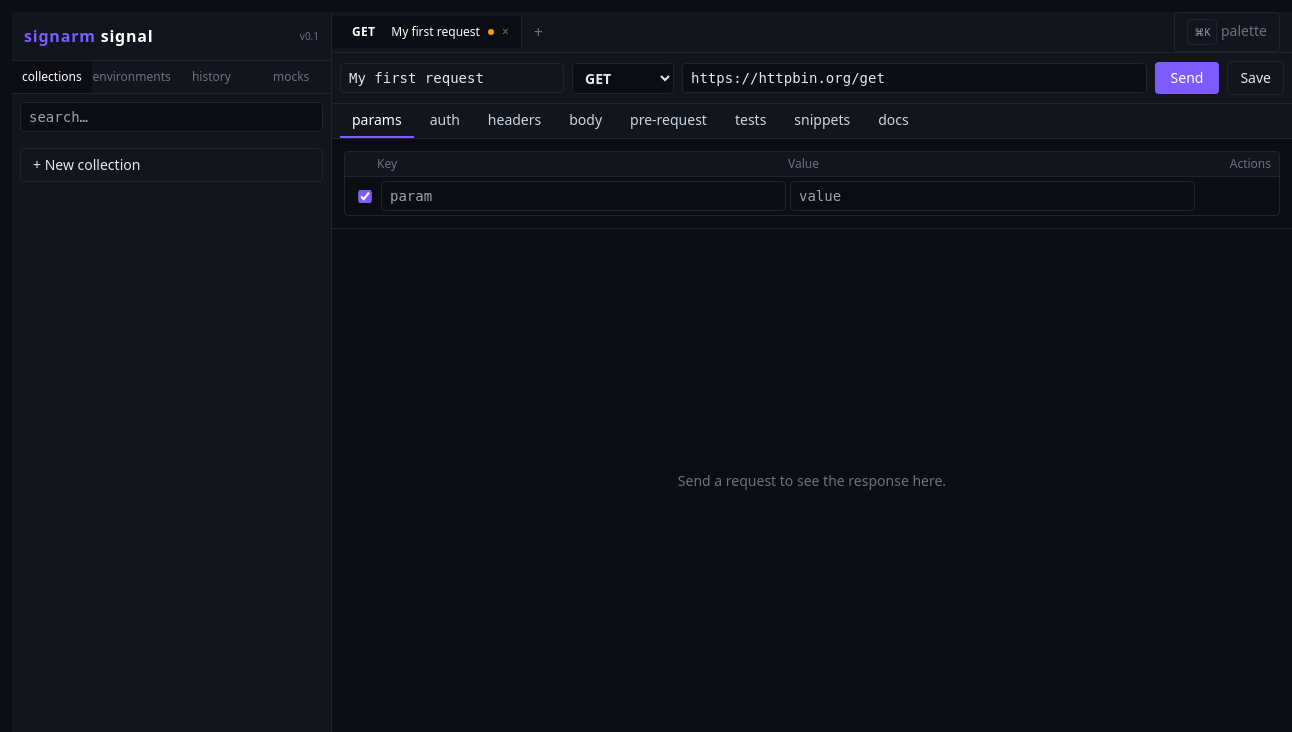
persistence — survives app restart › environments + activeEnvId survive remount
This screenshot has width=1292, height=732.
What coordinates should you click on to do the following:
click the button "environments"
I would click on:
 (132, 77)
Its box is [92,61,172,93].
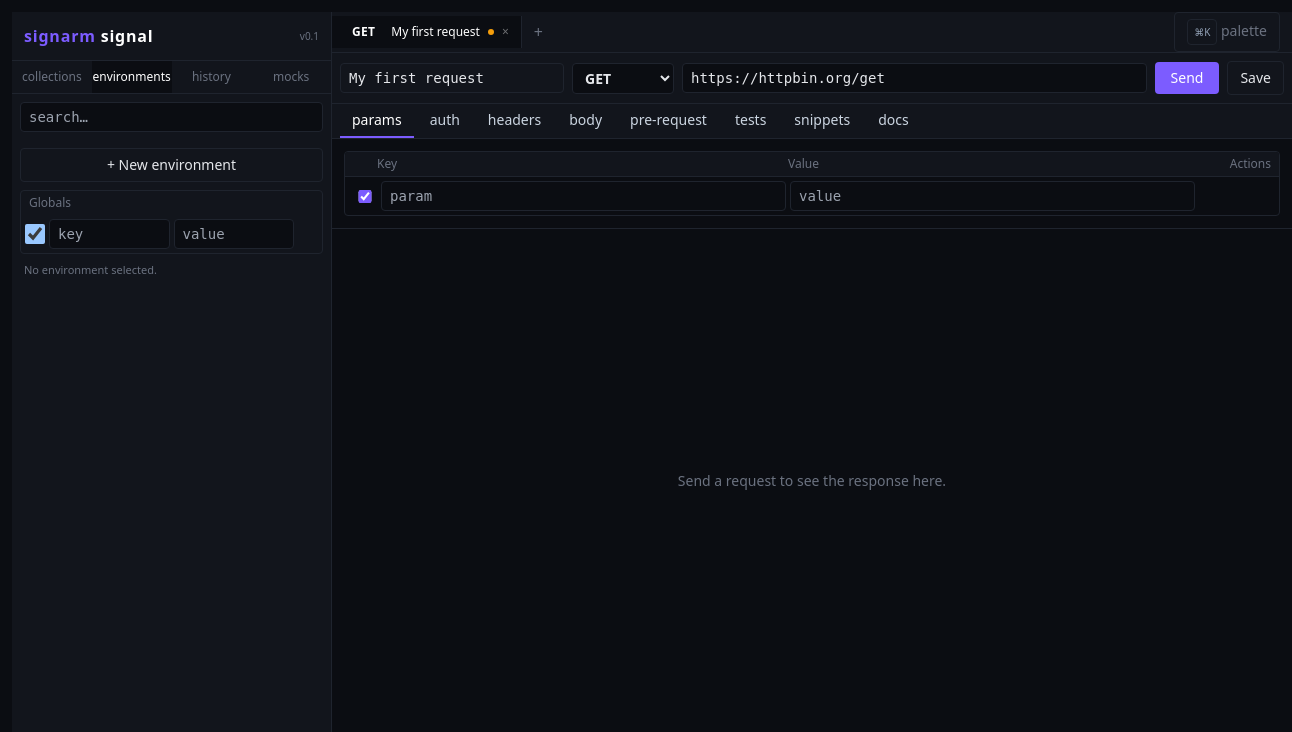
What coordinates should you click on to do the following:
click the button "+ New environment"
I would click on:
 (172, 165)
Its box is [20,148,323,182].
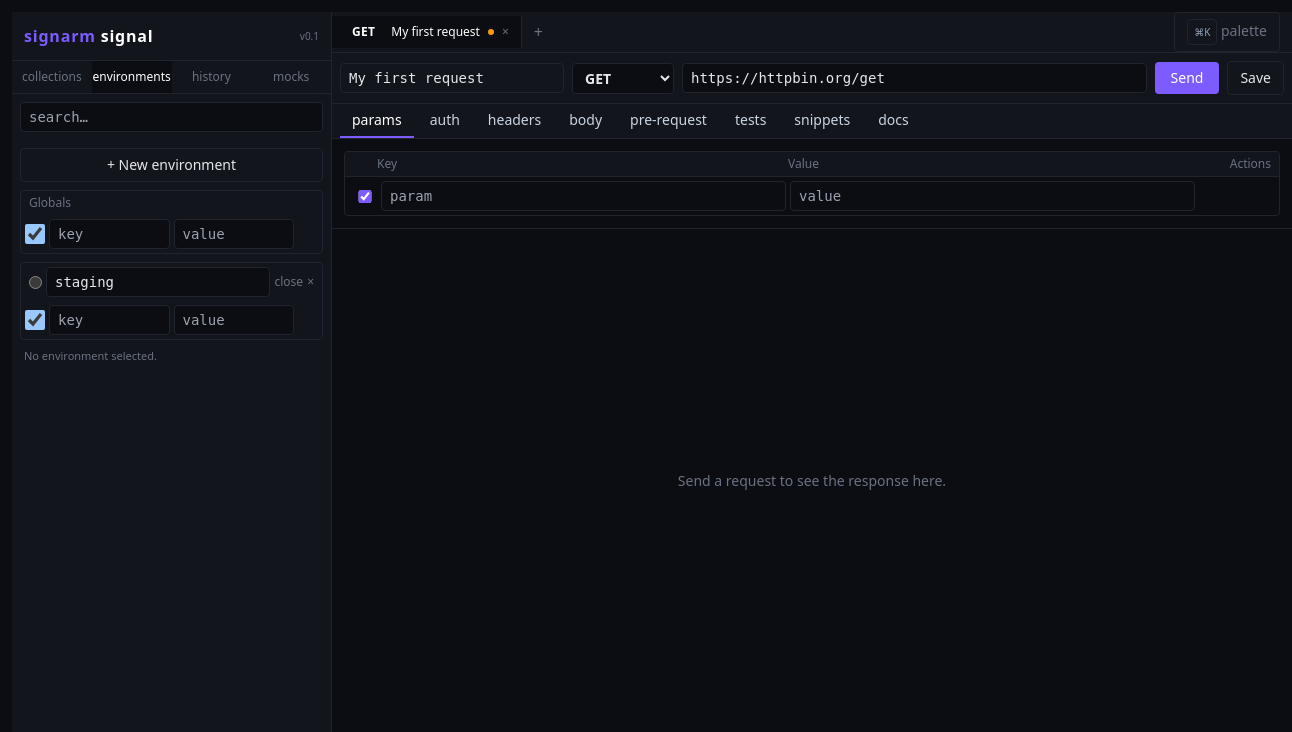
Expected: the field showing "staging" below "Globals" is shown, [46,267,270,297]
